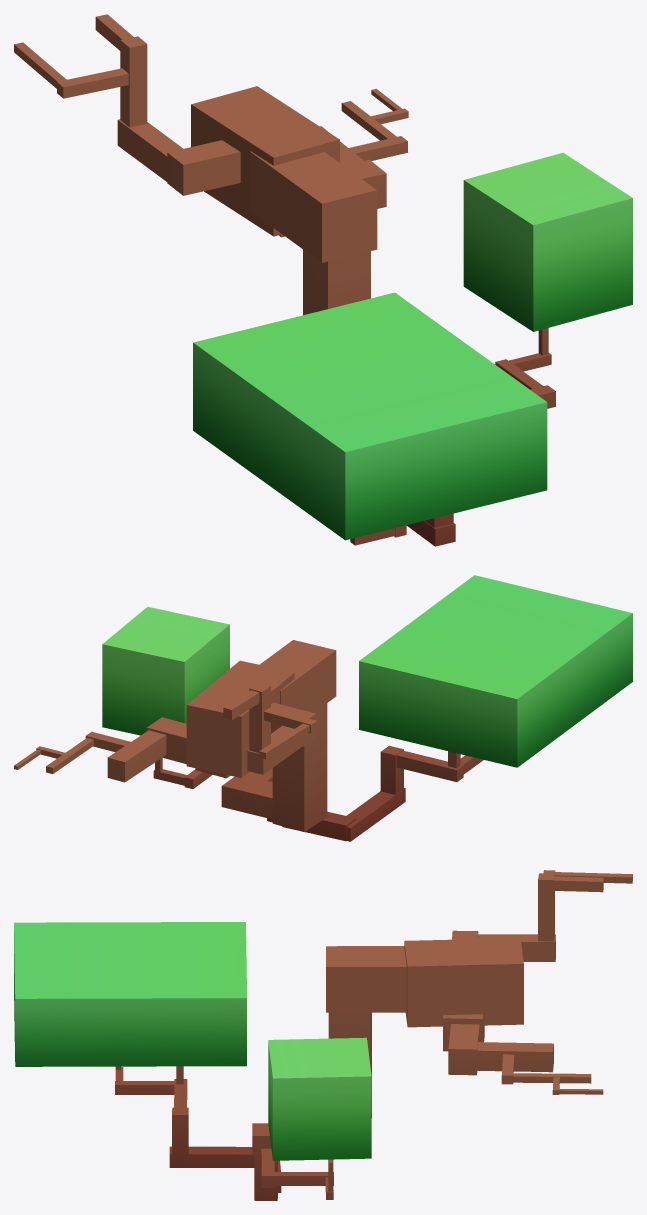
File: SM_Racine.FBX
3 views of the same model, one above another, from view 1: azimuth 30°, elevation 25°; view 2: azimuth 150°, elevation 25°; view 3: azimuth 270°, elevation 25° (orthographic). The views are drawn at different scales.
Visible parts, largest first — view 1: Box081, Box090, Box056, Box055, Box057, Box067, Box070, Box069, Box072, Box086, Box065, Box073 (+2 smaller); view 2: Box081, Box090, Box055, Box057, Box056, Box066, Box058, Box062, Box070, Box074, Box065, Box069 (+8 smaller); view 3: Box081, Box090, Box055, Box056, Box066, Box062, Box065, Box057, Box070, Box069, Box075, Box063 (+8 smaller).
Boxes of the visible parts, x1,y1,x2,y2 form: Box081: (193,292,547,540); Box090: (463,152,632,331); Box056: (250,151,377,262); Box055: (191,86,339,236); Box057: (303,249,370,315); Box067: (167,140,240,195); Box070: (120,36,147,127); Box069: (117,119,183,183); Box072: (57,68,128,98); Box086: (349,136,407,160); Box065: (343,159,386,208); Box073: (14,42,66,88); Box081: (359,575,632,767); Box090: (102,606,229,735); Box055: (186,660,294,777); Box057: (272,703,327,831); Box056: (259,640,336,712); Box066: (107,730,166,782); Box058: (221,775,272,819); Box062: (346,788,405,841); Box070: (249,683,270,752); Box074: (396,750,463,781); Box065: (146,717,186,763); Box069: (247,725,304,774); Box081: (14,922,246,1066); Box090: (268,1037,371,1160); Box055: (404,938,523,1027); Box056: (326,946,406,1012); Box066: (477,1042,553,1072); Box062: (169,1146,254,1167); Box065: (448,1024,479,1075); Box057: (328,1012,371,1118); Box070: (538,873,554,941); Box069: (478,934,555,961); Box075: (115,1081,174,1094); Box063: (172,1107,188,1154).
Bounding box in the file's own units: 376 × 267 × 572.
